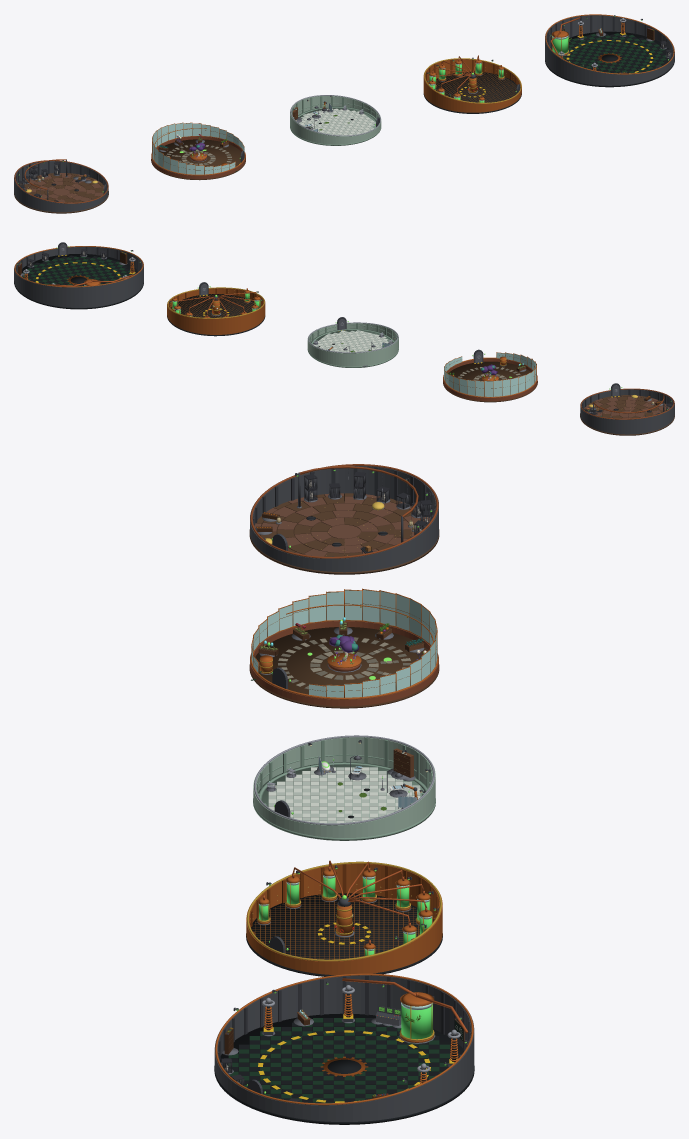
File: ile-labo-salles.glb
3 renders of one model, top to bottom at view 1: azimuth 30°, elevation 25°; view 2: azimuth 150°, elevation 25°; view 3: azimuth 270°, elevation 25°, orthographic. The views are drawn at different scales.
Visible parts, largest first — view 1: mur.004, sol.007, sol.006, mur.003, mur, sol.005, mur.002, caillebotis, sol.002, sol.004, sol.003, sol (+8 smaller); view 2: mur.004, mur.003, mur, mur.002, sol.006, sol.007, sol.005, sol.002, caillebotis, sol.003, sol.004, sol (+8 smaller); view 3: mur.004, sol.007, sol.006, sol.005, mur, mur.003, mur.002, sol.002, caillebotis, sol, sol.004, sol.003 (+8 smaller).
Part boxes in pixels (x1=…): mur.004: x1=545, y1=15, x2=674, y2=85; sol.007: x1=563, y1=33, x2=666, y2=73; sol.006: x1=563, y1=33, x2=668, y2=73; mur.003: x1=423, y1=59, x2=521, y2=112; mur: x1=14, y1=161, x2=108, y2=212; sol.005: x1=436, y1=71, x2=517, y2=102; mur.002: x1=290, y1=96, x2=381, y2=144; caillebotis: x1=436, y1=72, x2=516, y2=102; sol.002: x1=158, y1=139, x2=241, y2=166; sol.004: x1=299, y1=108, x2=375, y2=135; sol.003: x1=300, y1=108, x2=374, y2=135; sol: x1=23, y1=173, x2=103, y2=202; mur.004: x1=14, y1=246, x2=143, y2=307; mur.003: x1=167, y1=288, x2=265, y2=334; mur: x1=580, y1=389, x2=674, y2=434; mur.002: x1=307, y1=323, x2=398, y2=366; sol.006: x1=23, y1=255, x2=129, y2=286; sol.007: x1=23, y1=256, x2=130, y2=286; sol.005: x1=171, y1=294, x2=253, y2=317; sol.002: x1=448, y1=361, x2=530, y2=380; caillebotis: x1=178, y1=294, x2=253, y2=317; sol.003: x1=313, y1=330, x2=388, y2=352; sol.004: x1=316, y1=330, x2=385, y2=351; sol: x1=584, y1=395, x2=668, y2=418; mur.004: x1=214, y1=975, x2=474, y2=1121; sol.007: x1=228, y1=1018, x2=456, y2=1103; sol.006: x1=228, y1=1018, x2=460, y2=1103; sol.005: x1=251, y1=893, x2=433, y2=959; mur: x1=250, y1=466, x2=438, y2=572; mur.003: x1=246, y1=863, x2=442, y2=974; mur.002: x1=253, y1=737, x2=435, y2=837; sol.002: x1=255, y1=627, x2=428, y2=694; caillebotis: x1=252, y1=894, x2=419, y2=959; sol: x1=254, y1=493, x2=429, y2=556; sol.004: x1=268, y1=767, x2=420, y2=823; sol.003: x1=268, y1=767, x2=420, y2=823.
Bounding box in the file's own units: 212 × 7.25 × 37.
